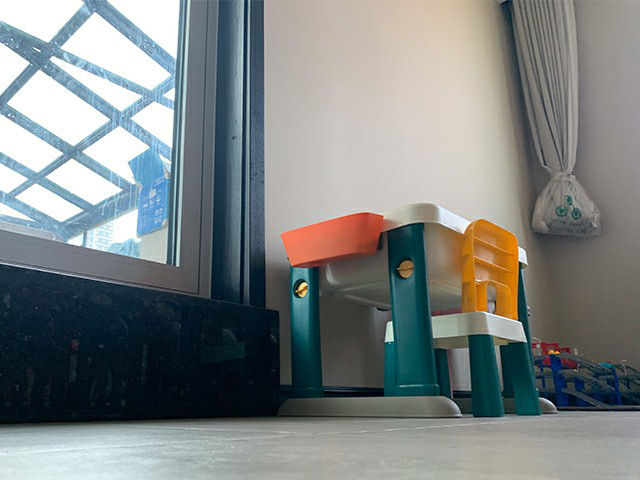stool: (382, 217, 544, 417)
table: (277, 201, 560, 419)
